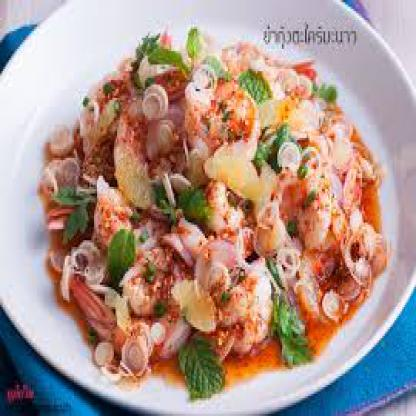Yum: (40, 13, 404, 403)
